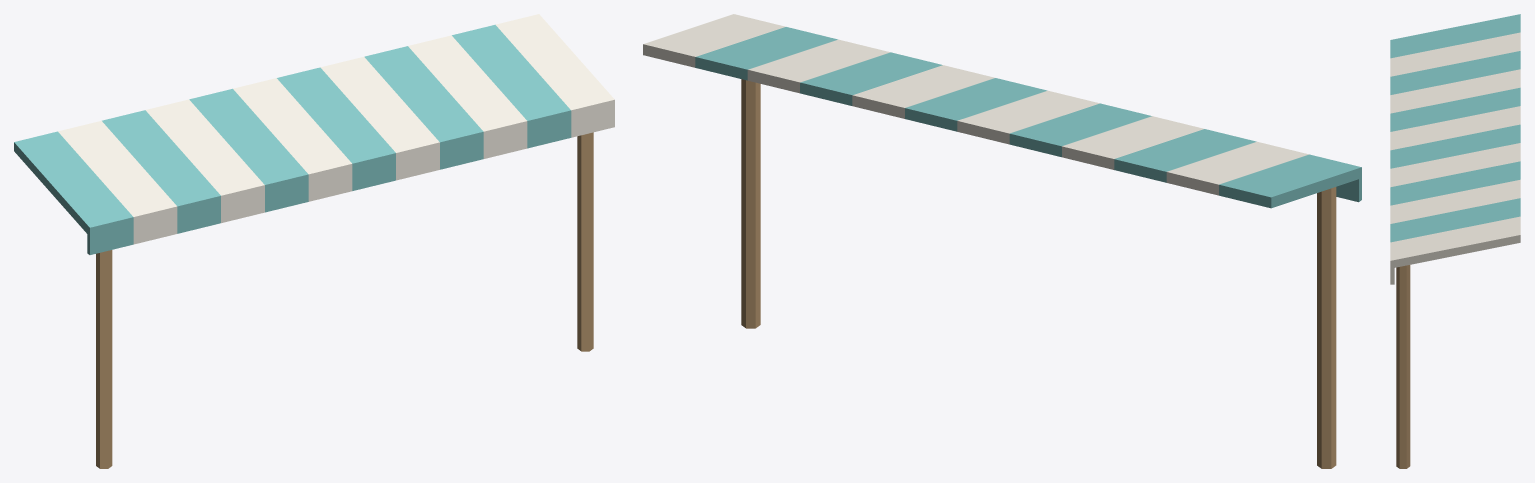
Rendered from awning_w6_0_peach.glb.
The picture shows the model from 3 angles, left to right: view 1: azimuth 30°, elevation 25°; view 2: azimuth 150°, elevation 25°; view 3: azimuth 270°, elevation 25°; orthographic projection. The views are drawn at different scales.
Parts seen in each view (by area): view 1: Player; view 2: Player; view 3: Player.
Part boxes in pixels (x1=…): Player: x1=14, y1=14, x2=614, y2=468; Player: x1=643, y1=14, x2=1361, y2=468; Player: x1=1390, y1=14, x2=1520, y2=468.
Bounding box in the file's own units: 6 × 3.05 × 1.5.
